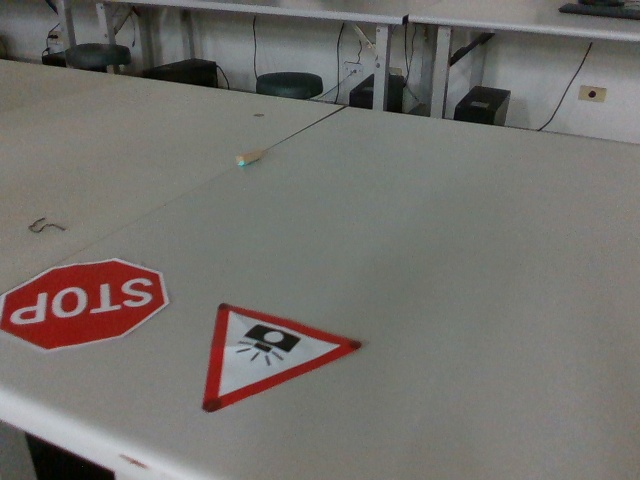camera: (195, 296, 365, 420)
stop: (1, 257, 174, 354)
